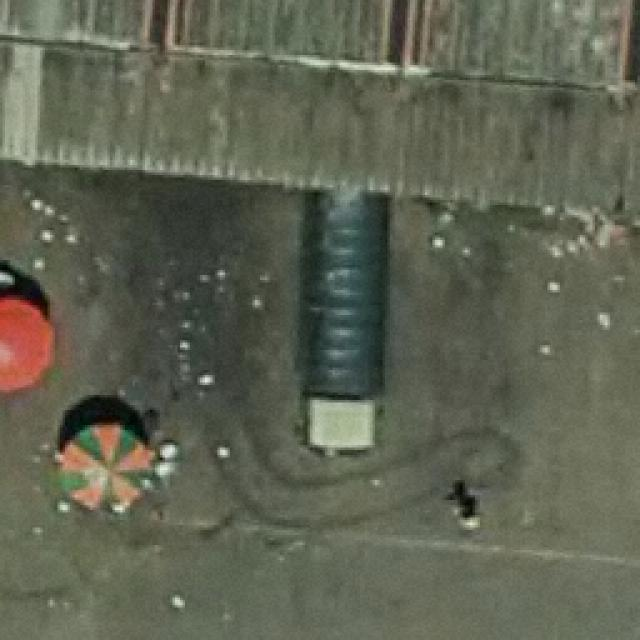vendedor_ambulante: (55, 399, 158, 518), (0, 271, 57, 401)
